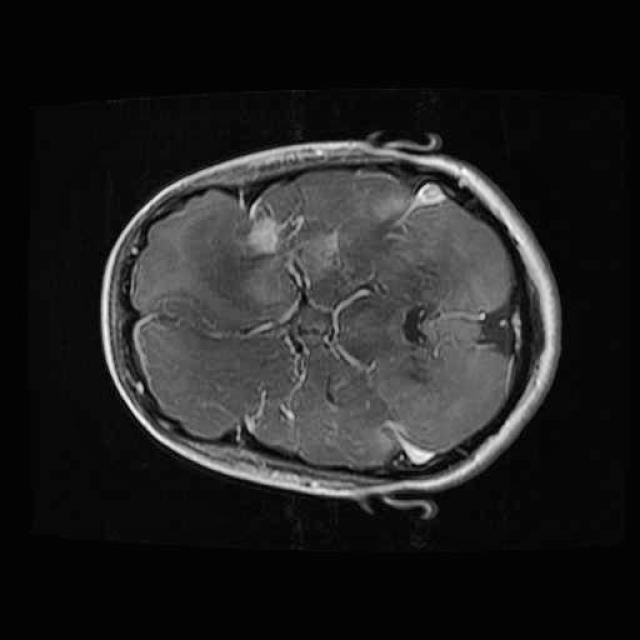Tumor: (226, 202, 364, 316)
